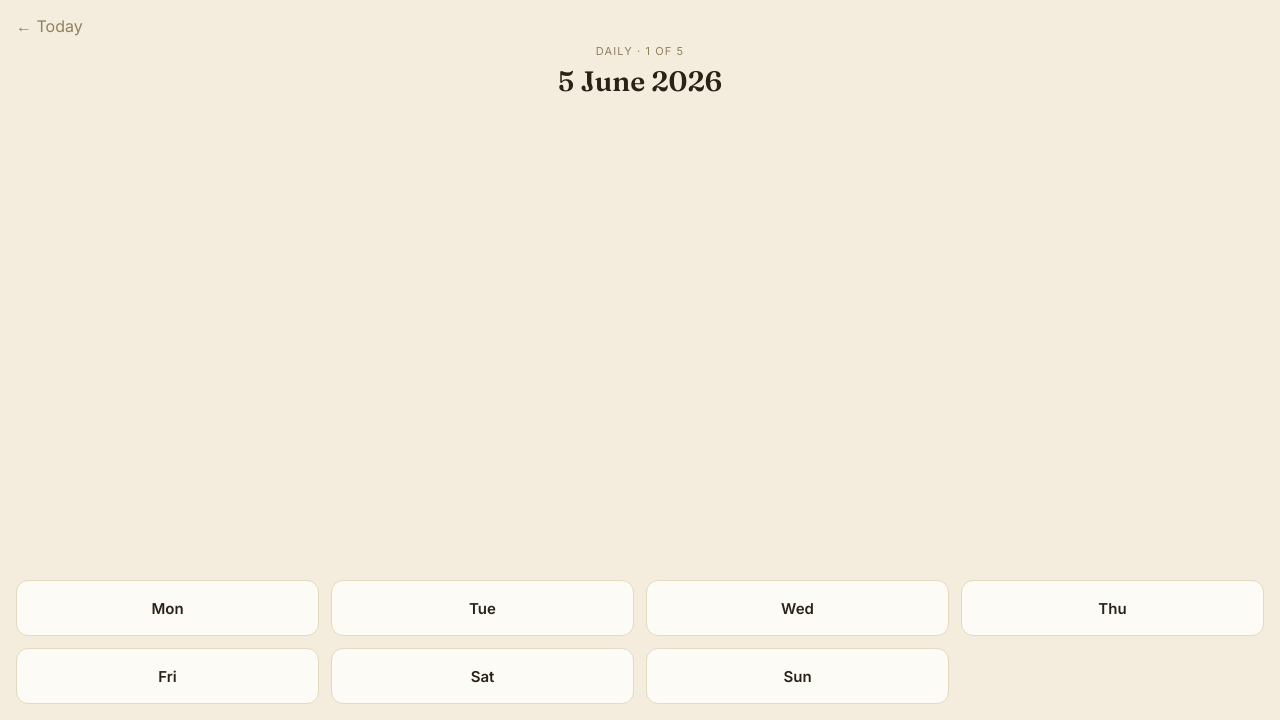
Test: DailyChallenge › runs the 5-date challenge to a perfect score
Click the button with aria-label "Friday": click(168, 676) [16,648,319,704]
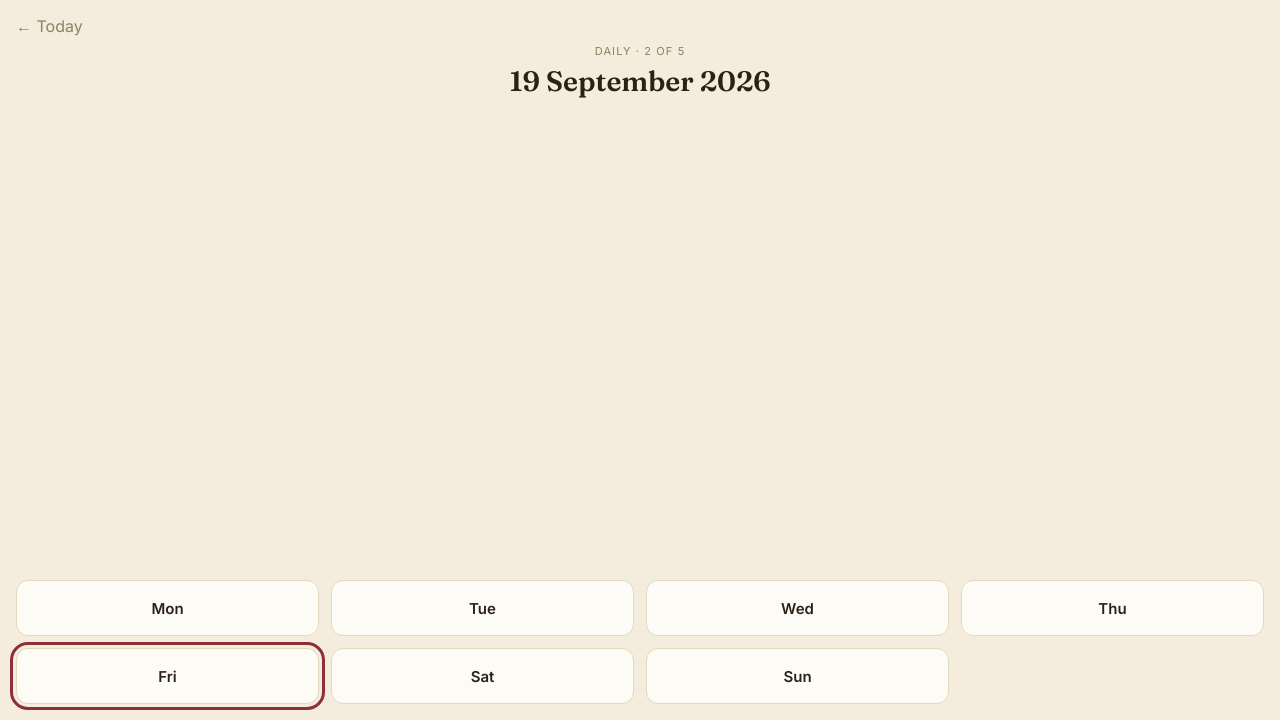
Click the button with aria-label "Saturday": click(482, 676) [331,648,634,704]
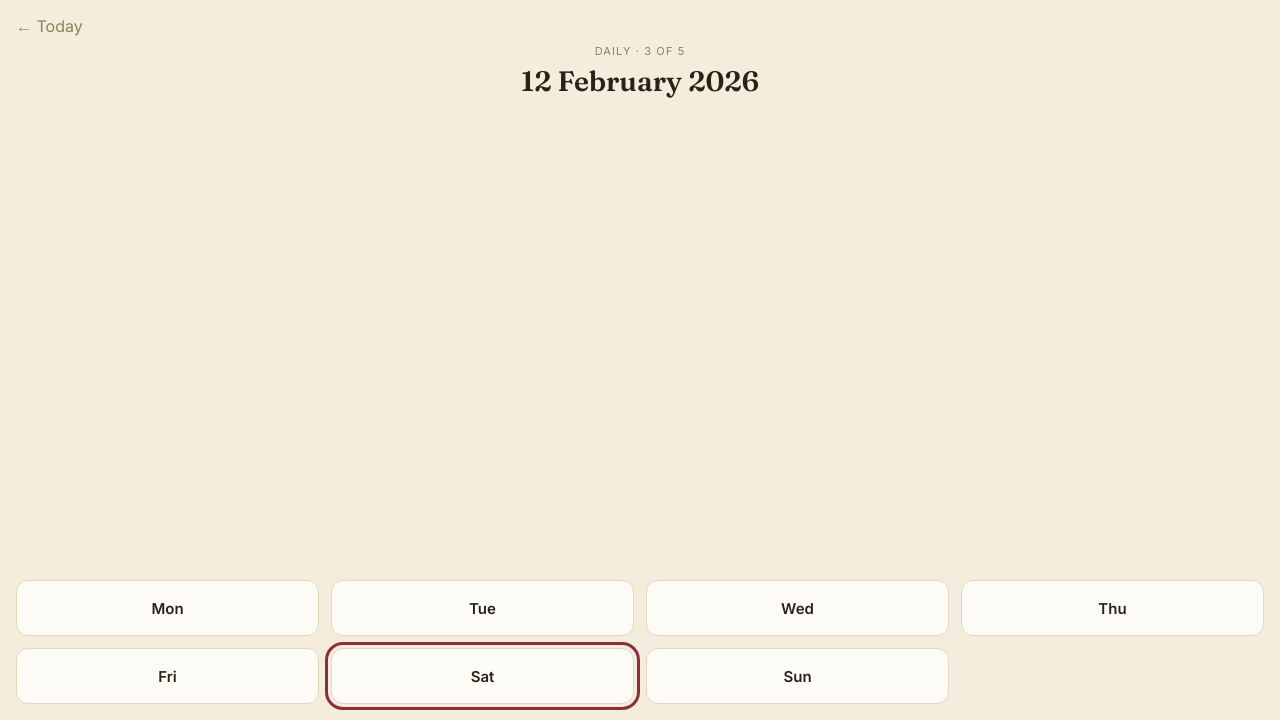
Click the button with aria-label "Thursday": click(1112, 608) [961,580,1264,636]
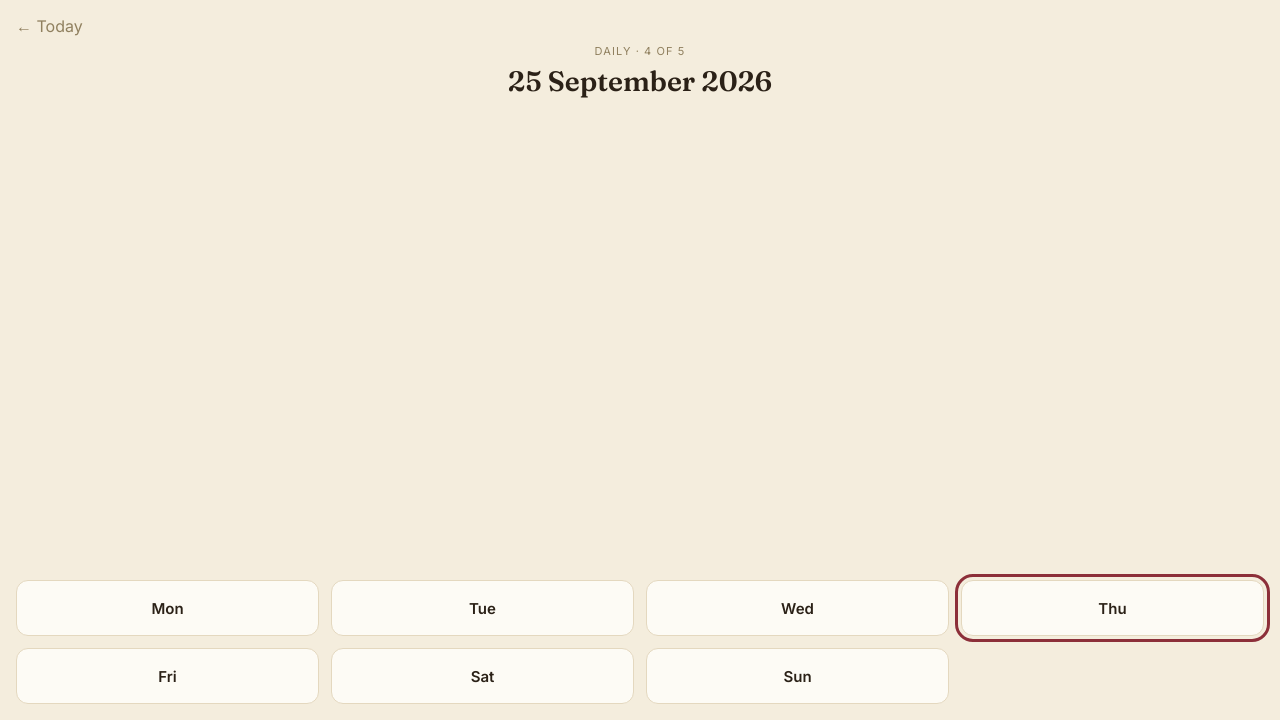
Click the button with aria-label "Friday": click(168, 676) [16,648,319,704]
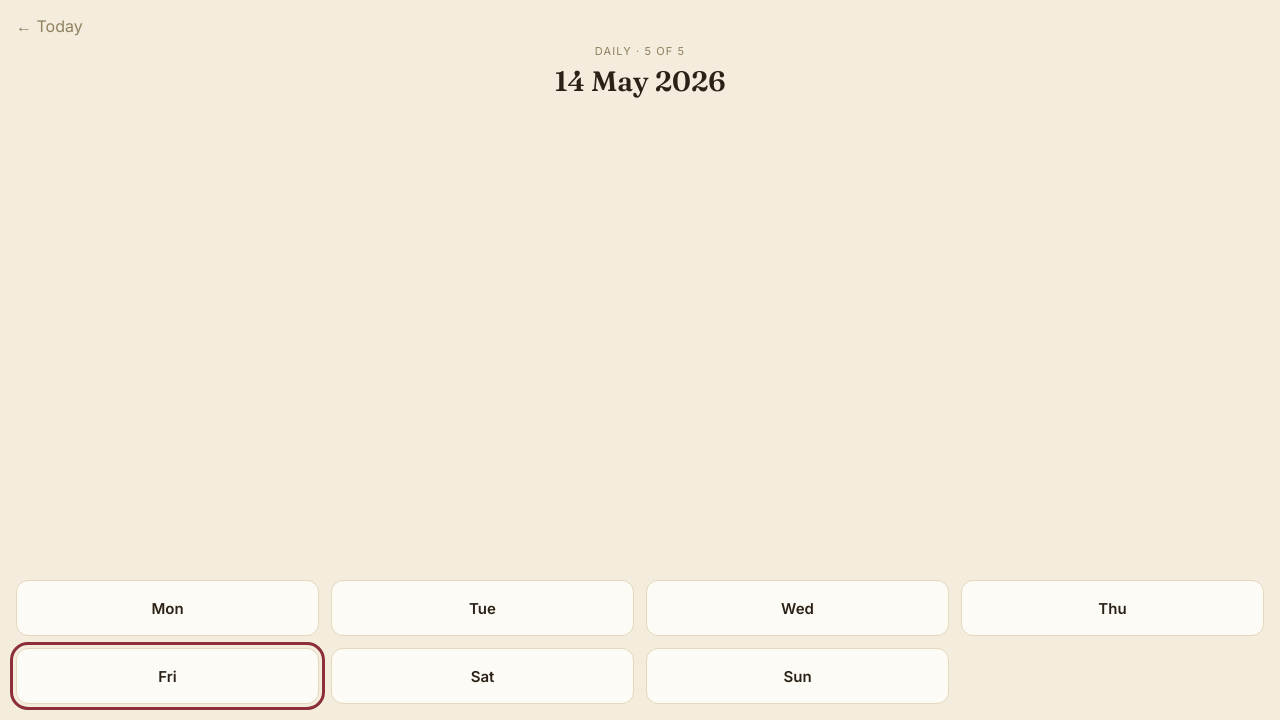
Click the button with aria-label "Thursday": click(1112, 608) [961,580,1264,636]
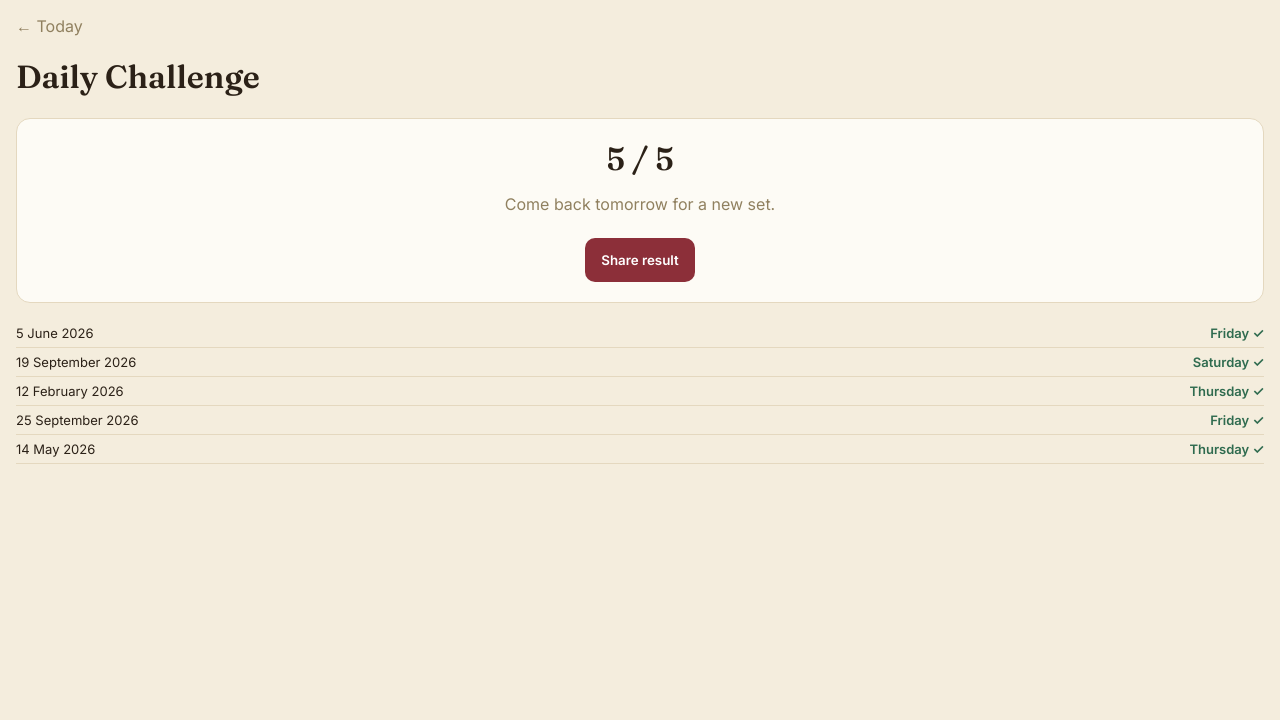
Result: the text "5 / 5" is shown at [606,139,674,178]
